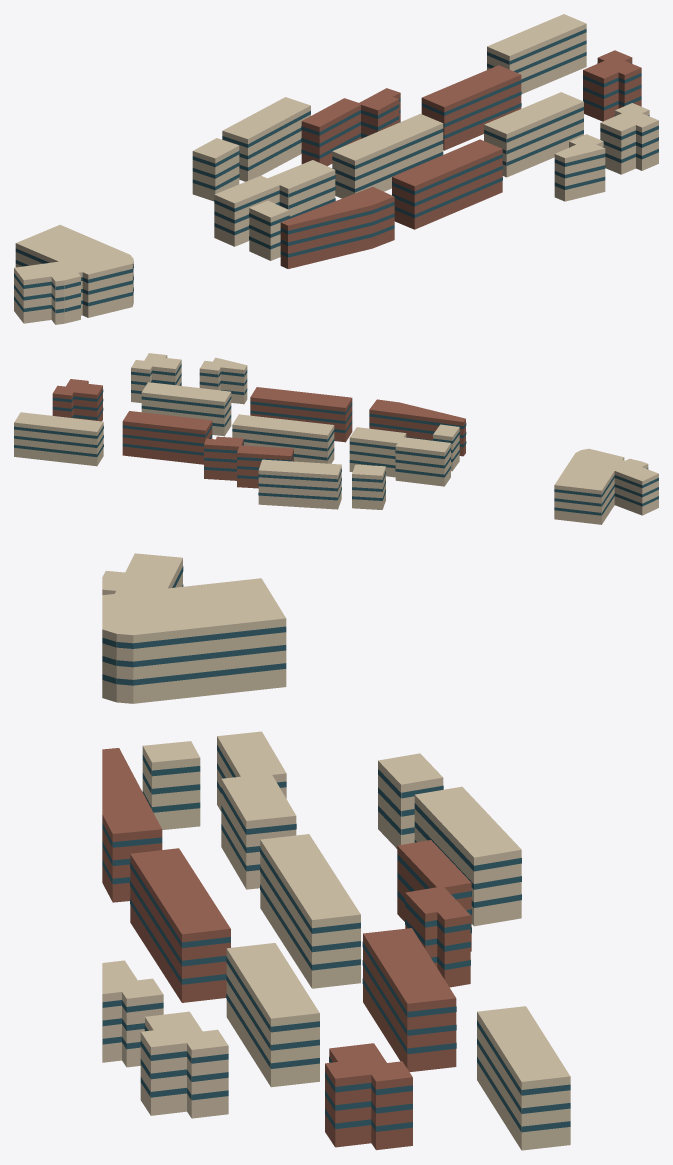
File: city_9_-8.glb
3 views of the same model, one above another, from view 1: azimuth 30°, elevation 25°; view 2: azimuth 150°, elevation 25°; view 3: azimuth 270°, elevation 25° (orthographic). The views are drawn at different scales.
Visible parts, largest first — view 1: city_9_-8; view 2: city_9_-8; view 3: city_9_-8.
Part boxes in pixels (x1,y1,x2,y2): city_9_-8: (14, 14, 658, 324); city_9_-8: (14, 353, 658, 524); city_9_-8: (102, 553, 570, 1150).
Bounding box in the file's own units: 248 × 15 × 92.75.
